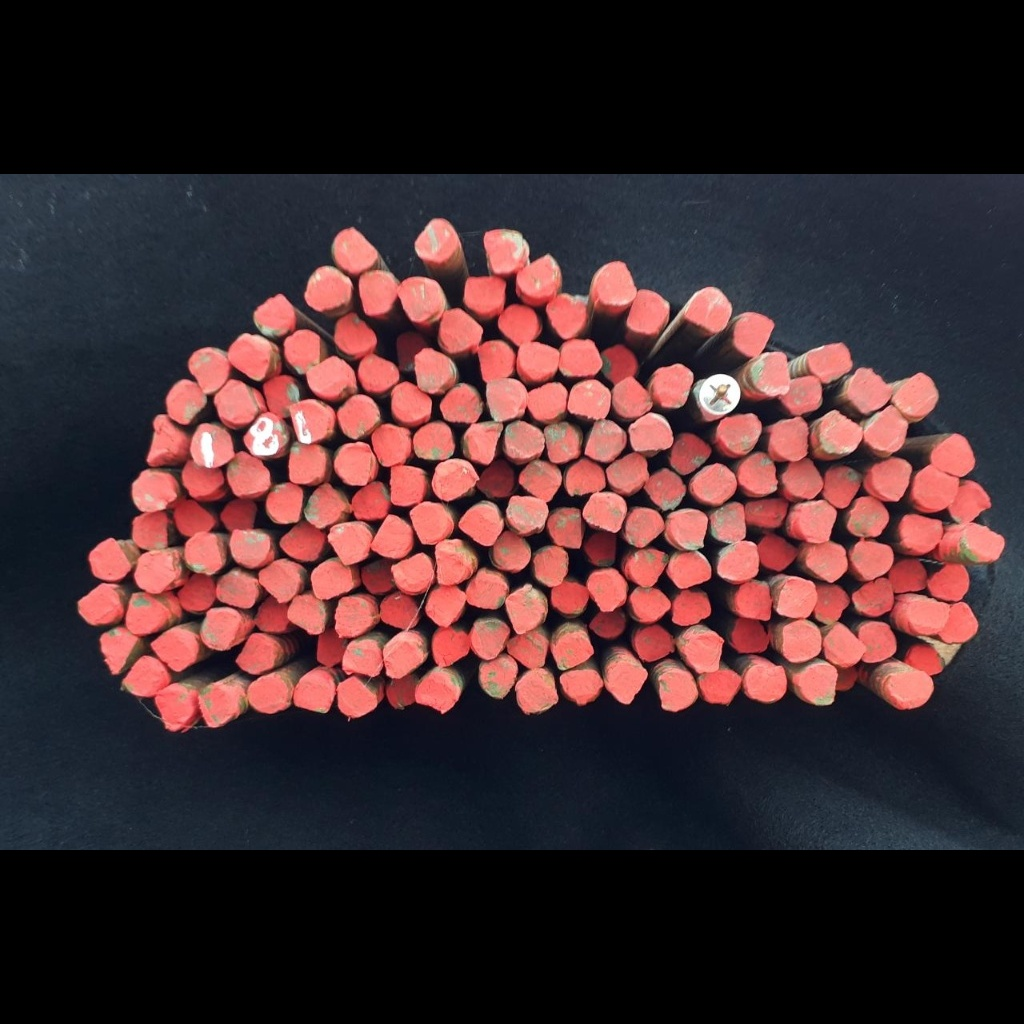dipstick: (684, 286, 732, 334), (624, 287, 671, 336), (305, 355, 357, 398), (862, 403, 909, 450), (484, 228, 530, 276), (151, 627, 199, 673), (396, 277, 442, 324), (332, 228, 379, 274), (135, 549, 182, 594), (514, 669, 559, 715), (131, 469, 177, 514), (691, 460, 738, 504), (415, 216, 459, 263), (304, 268, 352, 311), (430, 458, 479, 500), (121, 654, 170, 696), (337, 396, 382, 441), (190, 422, 235, 467), (892, 372, 938, 416), (434, 539, 478, 585), (228, 334, 271, 381), (77, 582, 124, 625), (155, 684, 195, 734), (914, 464, 959, 508), (848, 368, 893, 412), (334, 441, 378, 486), (328, 522, 373, 566), (287, 399, 330, 445), (214, 378, 257, 424), (546, 293, 586, 342), (227, 453, 271, 497), (459, 503, 504, 546), (243, 411, 288, 454), (506, 588, 548, 634), (165, 379, 207, 425), (125, 593, 171, 635), (99, 627, 140, 674), (517, 254, 561, 297), (440, 309, 483, 353), (411, 502, 455, 545), (303, 484, 346, 528), (227, 526, 271, 569), (88, 537, 131, 581), (717, 414, 762, 456), (586, 569, 628, 614), (391, 377, 433, 422), (293, 668, 335, 713), (254, 293, 296, 338), (824, 622, 865, 668), (666, 434, 713, 474), (932, 434, 975, 477), (371, 514, 414, 557), (335, 313, 378, 356), (198, 607, 241, 650), (846, 497, 890, 539), (804, 541, 848, 583), (820, 411, 862, 455), (643, 468, 687, 510), (610, 376, 654, 418), (584, 418, 626, 462), (519, 459, 563, 501), (370, 422, 412, 466), (257, 561, 301, 603), (807, 341, 852, 382), (357, 271, 398, 316), (628, 413, 674, 453), (197, 682, 237, 728), (279, 521, 326, 560), (595, 262, 637, 305), (461, 420, 503, 463), (950, 482, 991, 526), (926, 561, 970, 602), (733, 313, 774, 357), (654, 363, 694, 408), (216, 568, 261, 608), (776, 576, 818, 618), (871, 458, 912, 501), (793, 663, 836, 704), (751, 352, 792, 395), (781, 618, 822, 661), (583, 492, 626, 533), (906, 594, 950, 634), (715, 542, 760, 581), (857, 620, 898, 662), (507, 494, 549, 535), (391, 552, 433, 593), (337, 677, 378, 719), (311, 559, 353, 600), (744, 663, 787, 703), (559, 338, 602, 378), (567, 380, 610, 420), (606, 452, 649, 492), (470, 618, 510, 661), (486, 378, 526, 421), (334, 595, 374, 638), (887, 672, 933, 709), (739, 454, 780, 495), (182, 533, 223, 574), (498, 303, 538, 345), (463, 275, 505, 315), (961, 524, 1004, 563), (698, 668, 741, 707), (189, 350, 228, 393), (849, 541, 893, 579), (524, 382, 568, 420), (800, 499, 837, 544), (172, 501, 218, 537), (902, 513, 943, 553), (782, 459, 823, 499), (466, 569, 507, 609), (479, 657, 518, 699), (342, 639, 384, 678), (288, 441, 327, 483), (246, 675, 288, 714), (852, 578, 895, 616), (148, 417, 186, 460), (772, 415, 807, 461), (692, 380, 732, 420), (658, 670, 698, 710), (287, 594, 327, 634), (505, 420, 546, 459), (781, 376, 823, 414), (671, 508, 709, 550), (669, 550, 711, 588), (507, 630, 549, 668), (182, 457, 224, 495), (519, 343, 562, 380), (414, 349, 449, 394), (756, 532, 796, 571), (708, 502, 747, 542), (629, 547, 668, 587), (599, 345, 638, 385), (609, 664, 648, 704), (383, 639, 423, 678), (359, 352, 399, 391), (735, 580, 773, 621), (414, 422, 455, 460), (553, 632, 595, 669), (415, 673, 457, 710), (236, 636, 278, 673), (546, 505, 582, 548), (560, 669, 603, 705), (263, 375, 299, 418), (731, 615, 770, 654), (626, 507, 665, 546), (351, 481, 390, 520), (684, 632, 722, 672), (630, 585, 670, 623), (566, 458, 606, 496), (427, 587, 467, 625), (941, 602, 978, 643), (389, 463, 425, 505), (493, 532, 531, 571), (432, 628, 470, 667), (381, 592, 420, 630), (178, 571, 215, 611), (671, 591, 712, 627), (812, 584, 850, 622), (265, 484, 303, 522), (823, 468, 860, 507), (477, 462, 516, 499), (254, 595, 293, 632), (478, 340, 515, 378), (133, 511, 169, 550), (544, 422, 579, 462), (744, 496, 787, 528), (889, 557, 927, 593), (635, 626, 674, 661), (534, 546, 568, 586), (551, 582, 590, 614), (285, 330, 322, 363), (906, 643, 945, 674), (315, 627, 345, 667), (221, 497, 256, 530), (395, 333, 427, 369), (363, 558, 394, 594), (585, 534, 618, 566), (589, 609, 625, 637), (387, 675, 416, 708), (831, 665, 857, 690)
